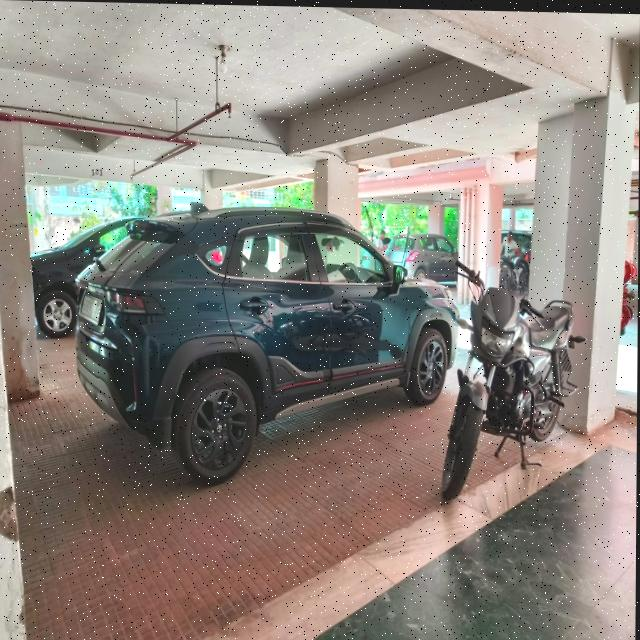bike: (428, 258, 593, 507), (500, 250, 531, 289)
car: (75, 196, 455, 491), (29, 193, 132, 344), (389, 217, 468, 279), (502, 225, 535, 247)
